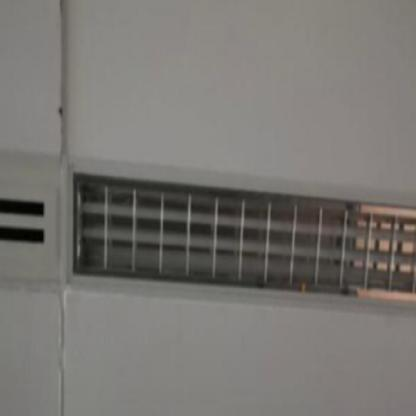light_off: (58, 139, 416, 316)
